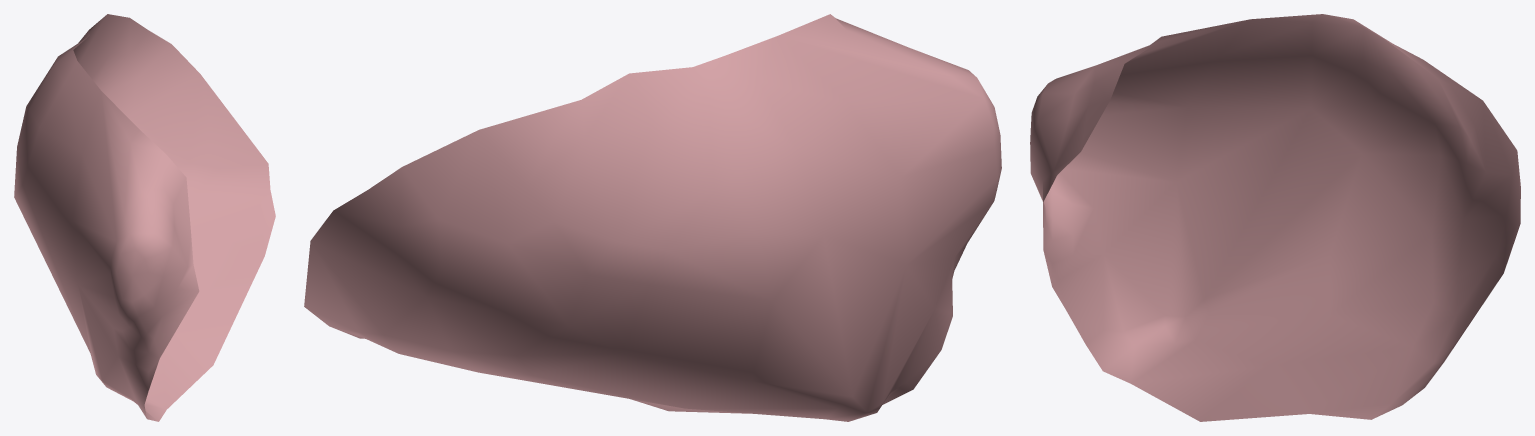
3 renders of one model, left to right at view 1: azimuth 30°, elevation 25°; view 2: azimuth 150°, elevation 25°; view 3: azimuth 270°, elevation 25°, orthographic. The views are drawn at different scales.
Parts seen in each view (by area): view 1: ZA_c5f2002f69ae8209; view 2: ZA_c5f2002f69ae8209; view 3: ZA_c5f2002f69ae8209.
Boxes of the visible parts, left/top/right/bottom form: ZA_c5f2002f69ae8209: left=14, top=14, right=275, bottom=421; ZA_c5f2002f69ae8209: left=304, top=14, right=1001, bottom=421; ZA_c5f2002f69ae8209: left=1030, top=14, right=1520, bottom=421.
Bounding box in the file's own units: 0.0128 × 0.0119 × 0.0145.
